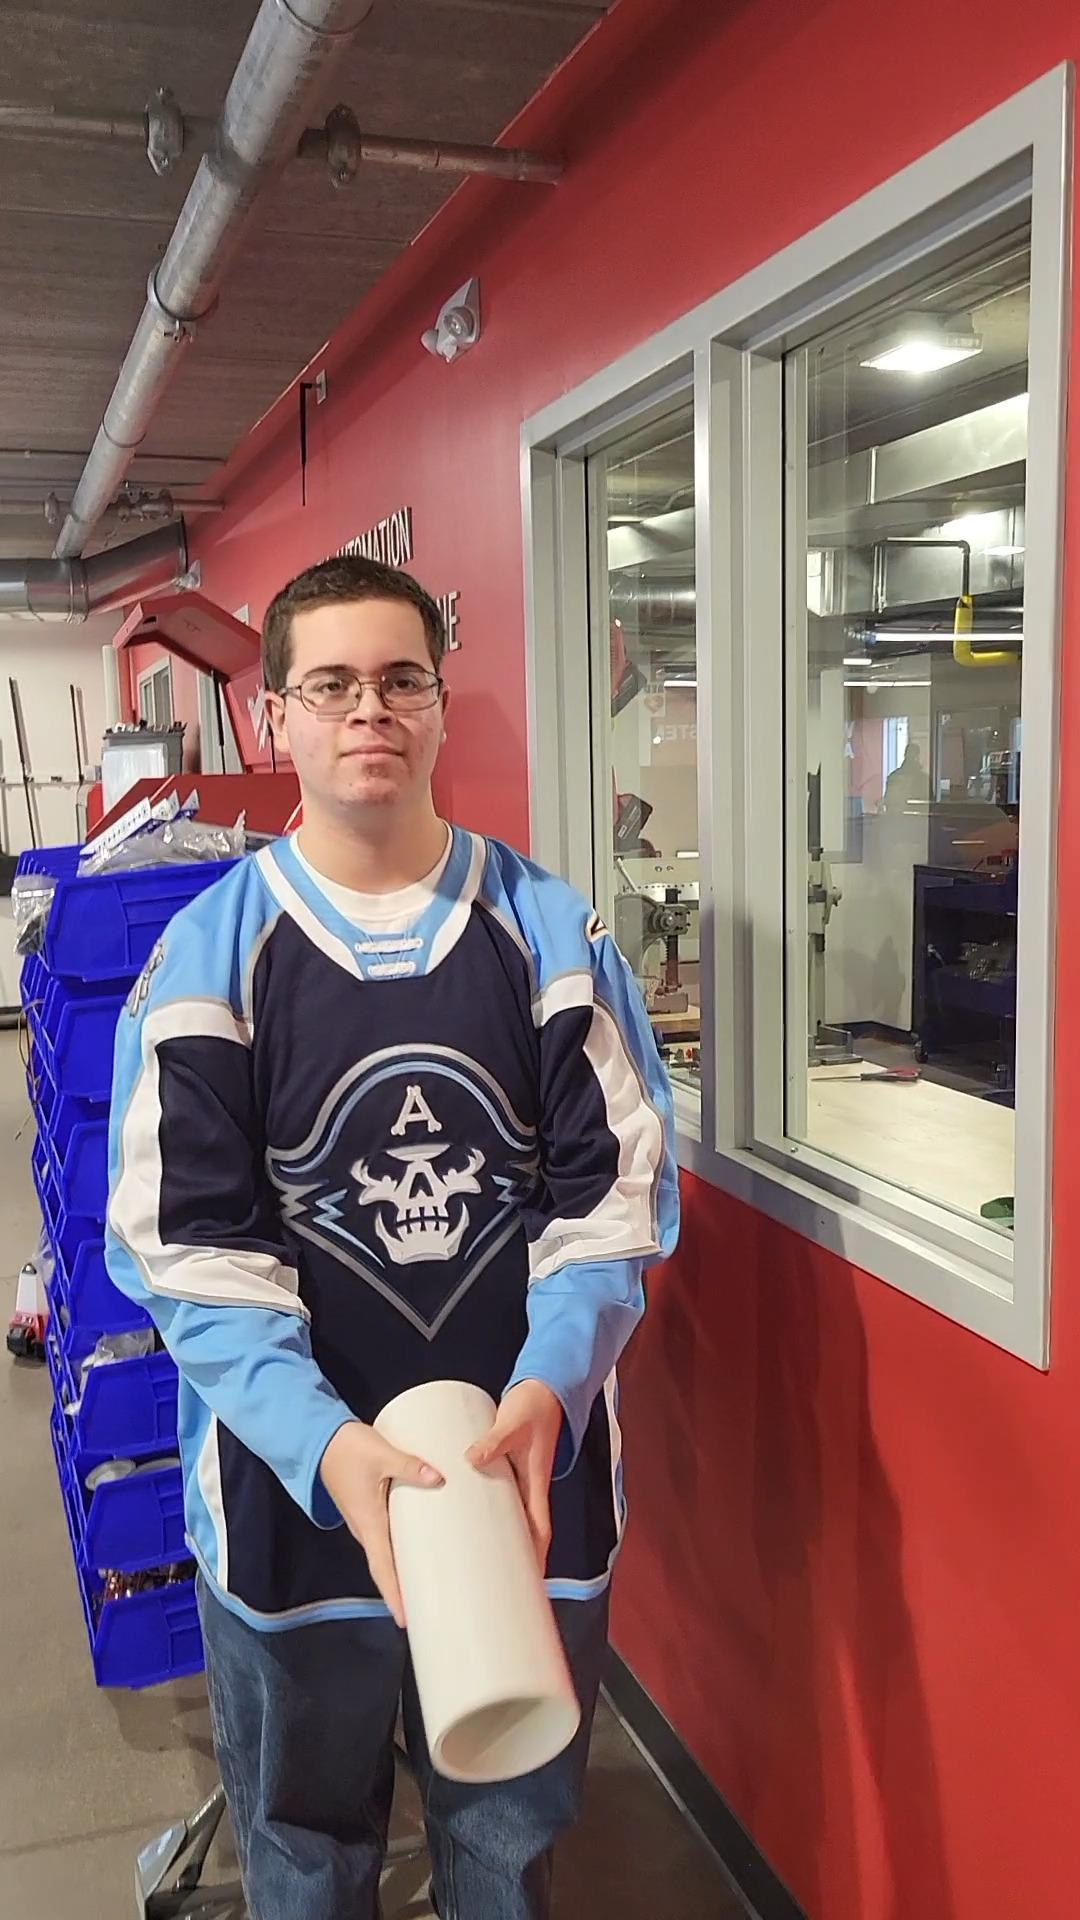coral: (360, 1378, 583, 1796)
